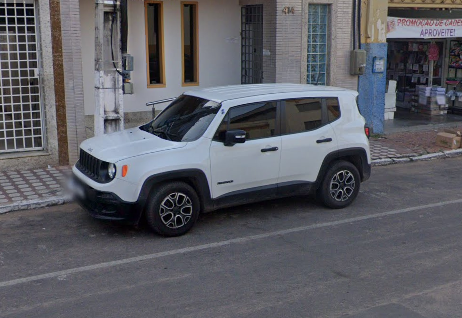car: (66, 81, 379, 238)
